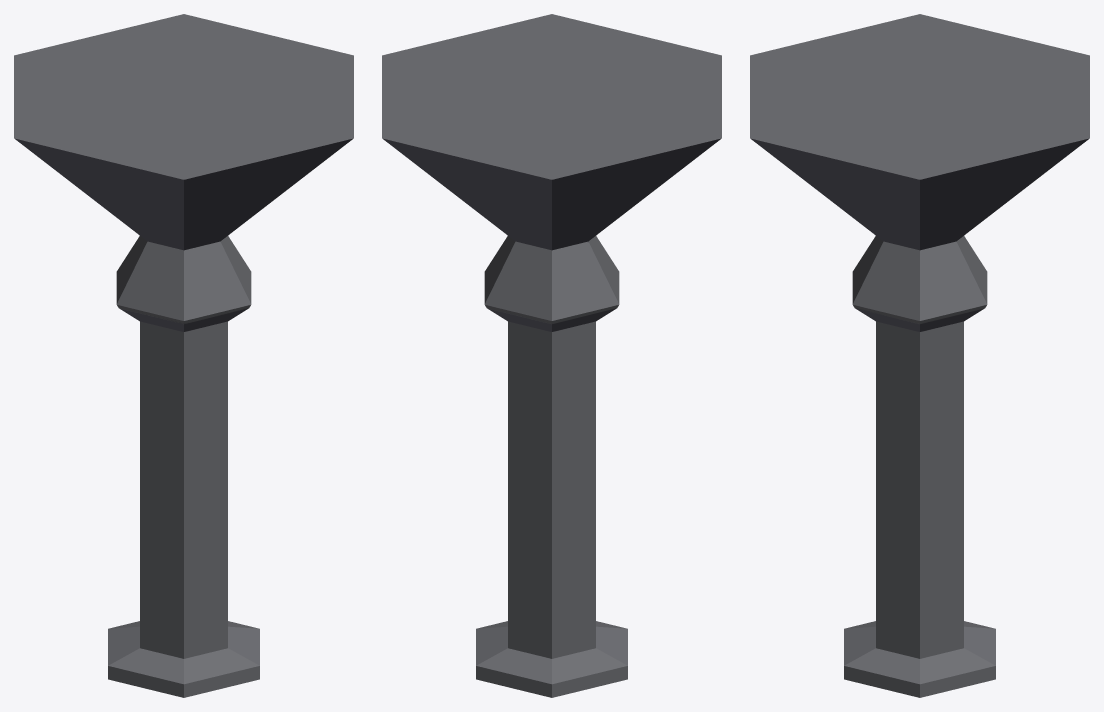
The model's file is Undercroft_Pillar_Unwrapped.FBX.
3 views of the same model, side by side, from view 1: azimuth 30°, elevation 25°; view 2: azimuth 150°, elevation 25°; view 3: azimuth 270°, elevation 25° (orthographic).
Parts seen in each view (by area): view 1: Undercroft_Pillar_2; view 2: Undercroft_Pillar_2; view 3: Undercroft_Pillar_2.
Part boxes in pixels (x1,y1,x2,y2): Undercroft_Pillar_2: [14, 14, 353, 697]; Undercroft_Pillar_2: [382, 14, 721, 697]; Undercroft_Pillar_2: [750, 14, 1089, 697].
Bounding box in the file's own units: 2.08 × 3.31 × 1.81.
